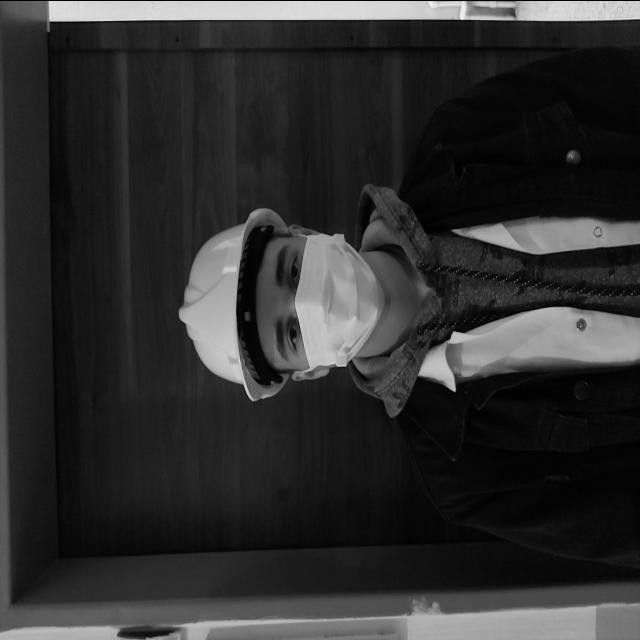safety_helmet: (180, 206, 291, 400)
